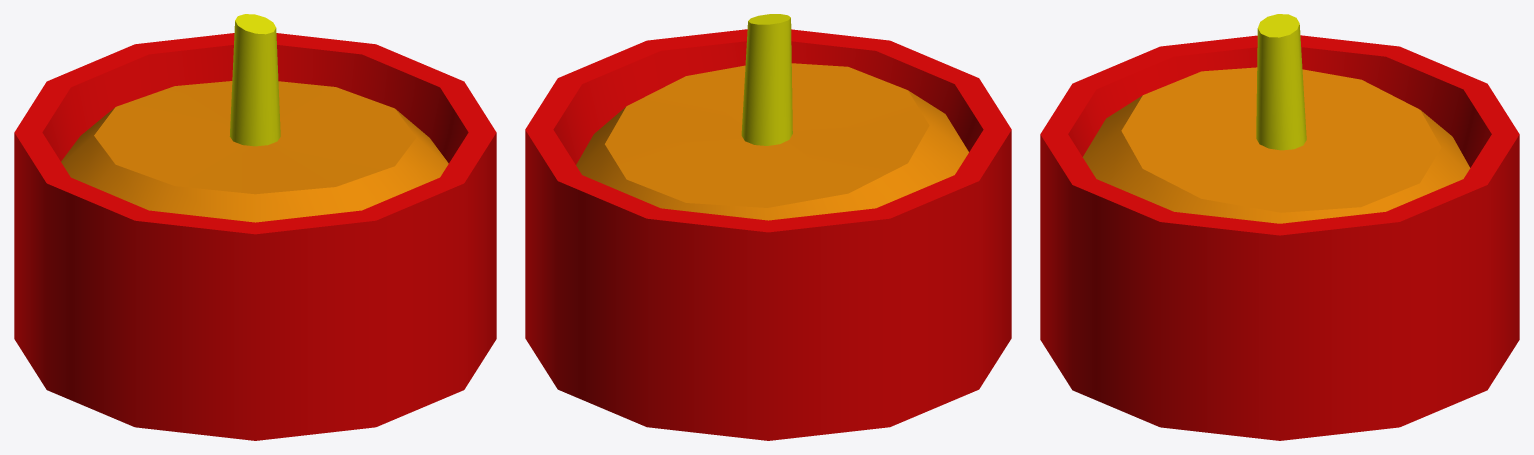
The model's file is Candle_2.fbx.
3 renders of one model, left to right at view 1: azimuth 30°, elevation 25°; view 2: azimuth 150°, elevation 25°; view 3: azimuth 270°, elevation 25°, orthographic.
Visible parts, largest first — view 1: Candle_2; view 2: Candle_2; view 3: Candle_2.
Boxes of the visible parts, box(x1,y1,x2,y2) form: Candle_2: box(14, 14, 496, 440); Candle_2: box(525, 14, 1011, 440); Candle_2: box(1040, 14, 1519, 440).
Size of the model in its own units: 7.09 by 5.18 by 7.09.
